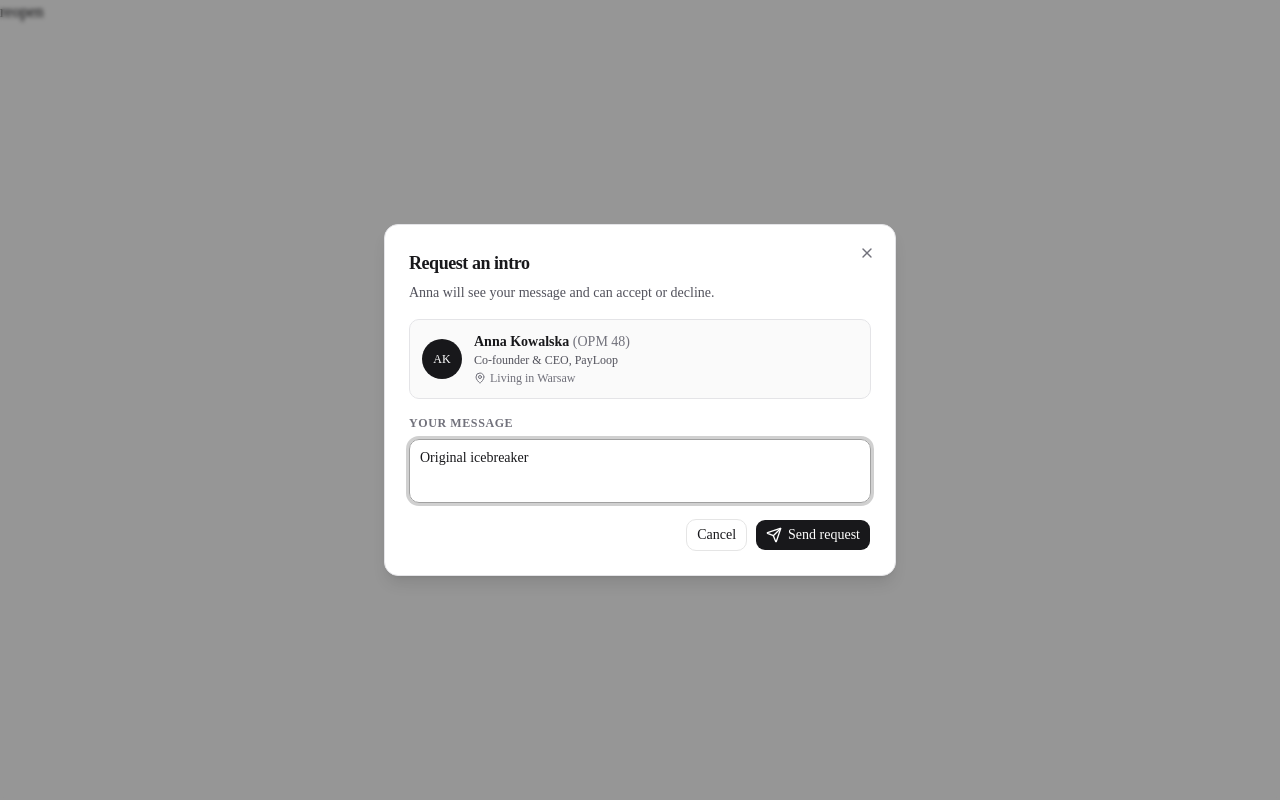
Scenario: RequestIntroDialog › shows the server error, stays open and does not report success
Click the button "Send request" at (813, 535), box [755,519,871,551]
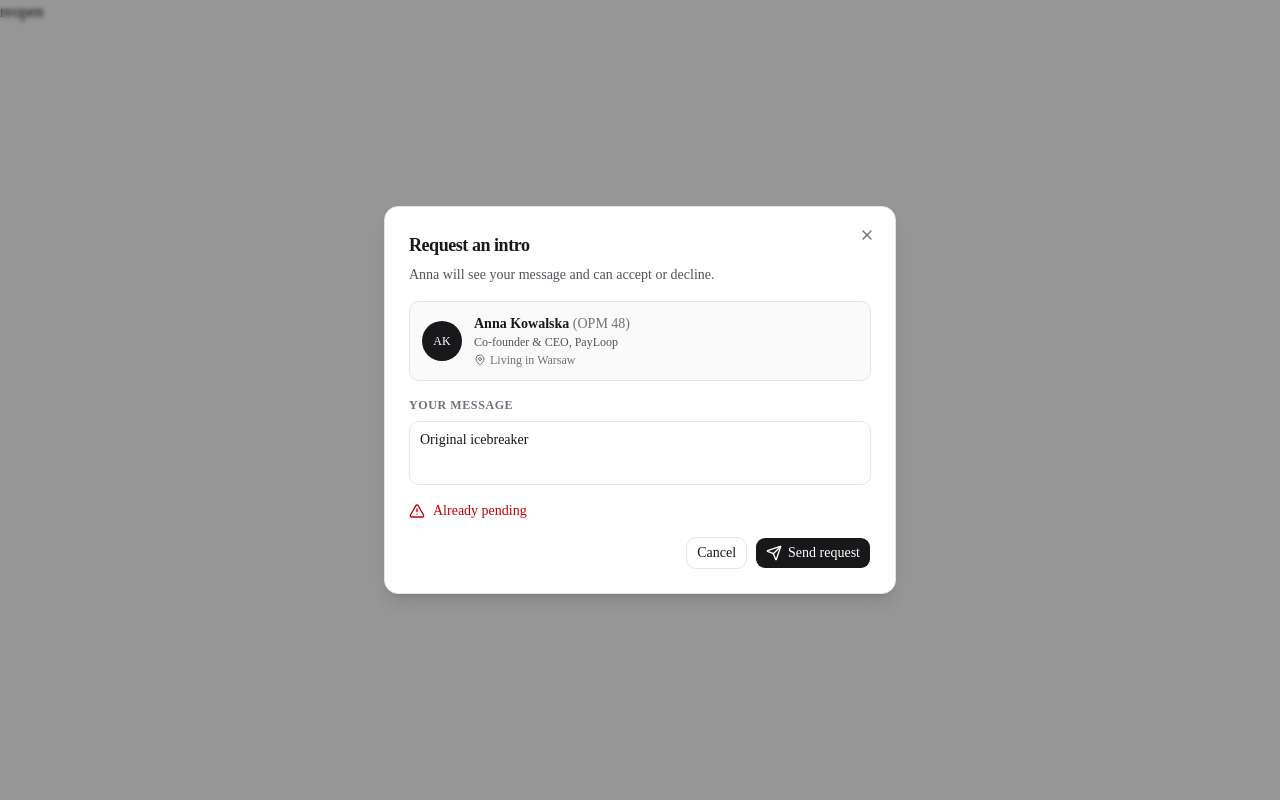
Expected: the dialog is shown, [384,206,896,594]
Expected: the message reads "Already pending", [433,503,527,518]
